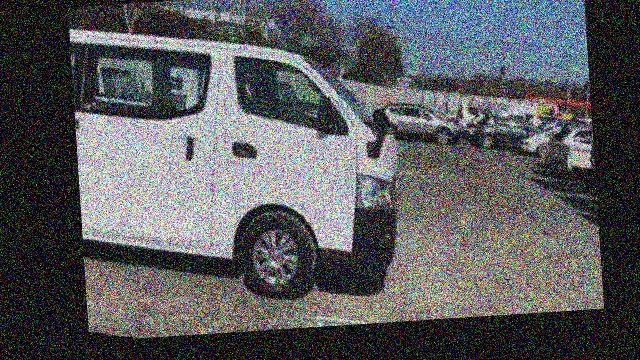van: (68, 0, 420, 331)
